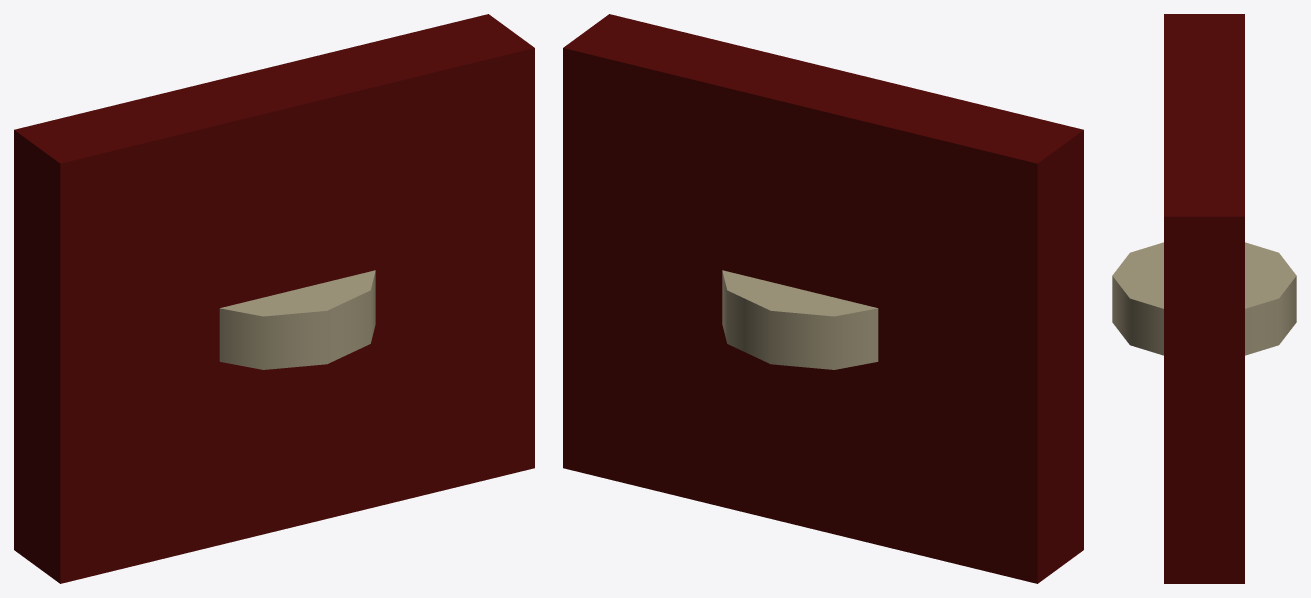
The model's file is prop_fire_safety_board.obj.
3 views of the same model, side by side, from view 1: azimuth 30°, elevation 25°; view 2: azimuth 150°, elevation 25°; view 3: azimuth 270°, elevation 25° (orthographic). The views are drawn at different scales.
Parts seen in each view (by area): view 1: prop_fire_safety_board_DA_0000, prop_fire_safety_board_DA_0002; view 2: prop_fire_safety_board_DA_0000, prop_fire_safety_board_DA_0002; view 3: prop_fire_safety_board_DA_0000, prop_fire_safety_board_DA_0002.
Part boxes in pixels (<box>): prop_fire_safety_board_DA_0000: <box>14,14,534,583</box>; prop_fire_safety_board_DA_0002: <box>219,270,375,369</box>; prop_fire_safety_board_DA_0000: <box>563,14,1083,583</box>; prop_fire_safety_board_DA_0002: <box>722,270,878,369</box>; prop_fire_safety_board_DA_0000: <box>1164,14,1244,583</box>; prop_fire_safety_board_DA_0002: <box>1112,242,1296,355</box>.
Bounding box in the file's own units: 1.3 × 1.1 × 0.5.
